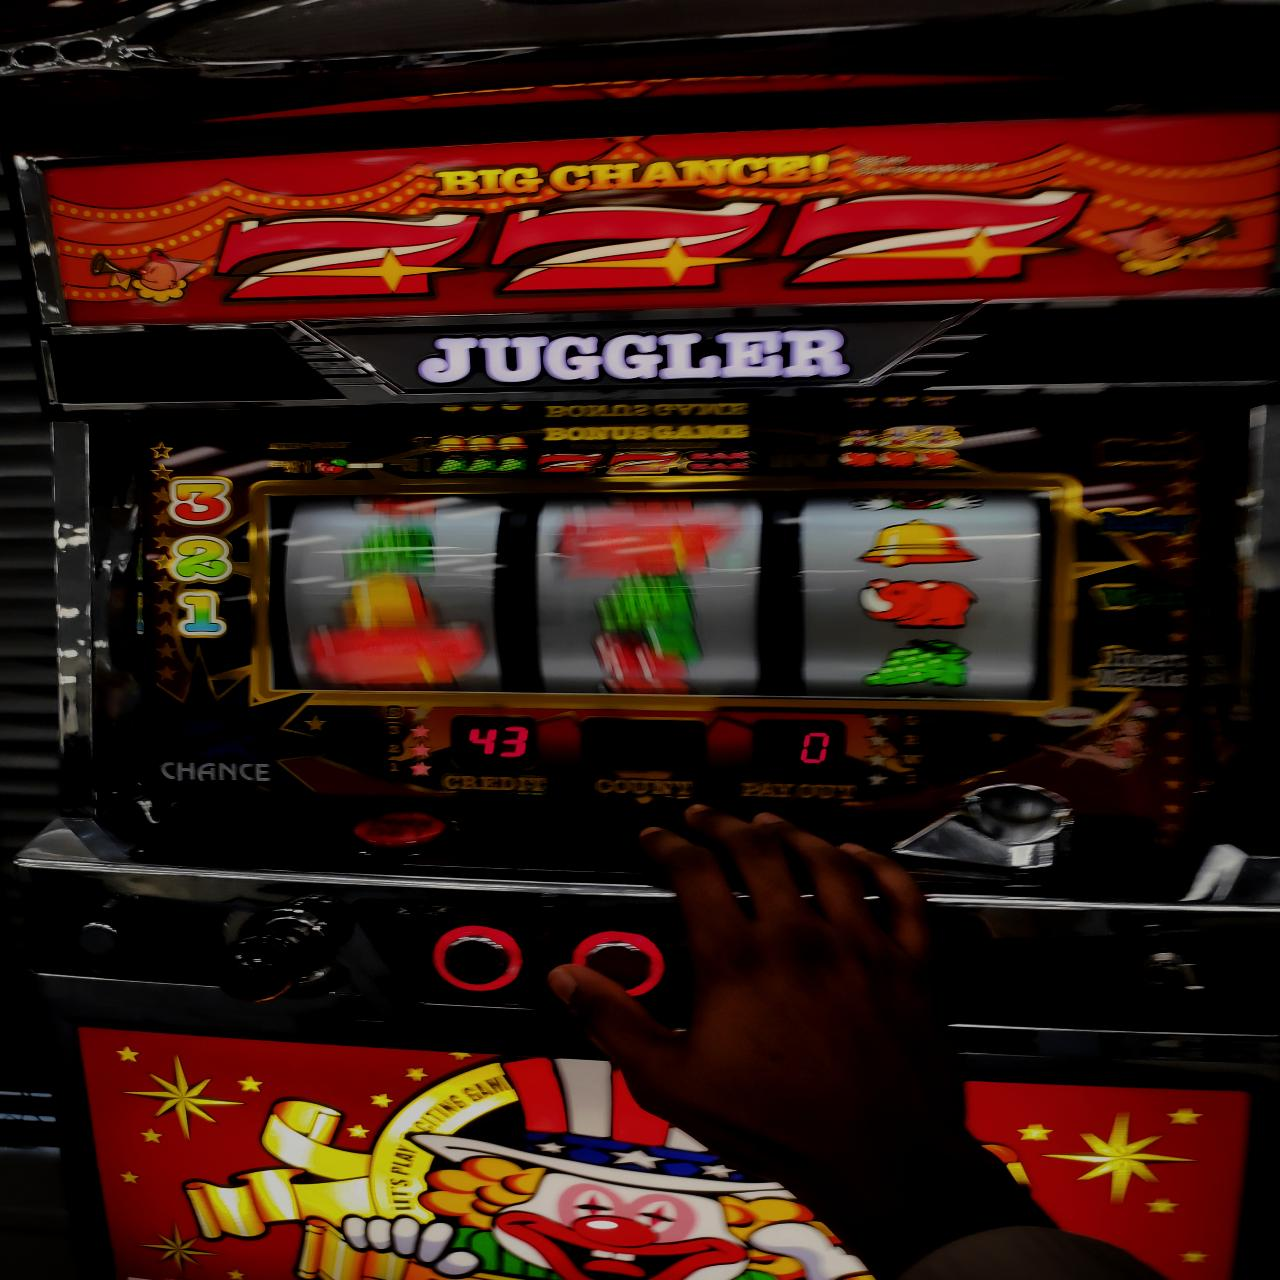8: (857, 579, 982, 628)
bell: (860, 516, 981, 570)
grape: (864, 636, 976, 687)
rhino: (267, 489, 1044, 704)
